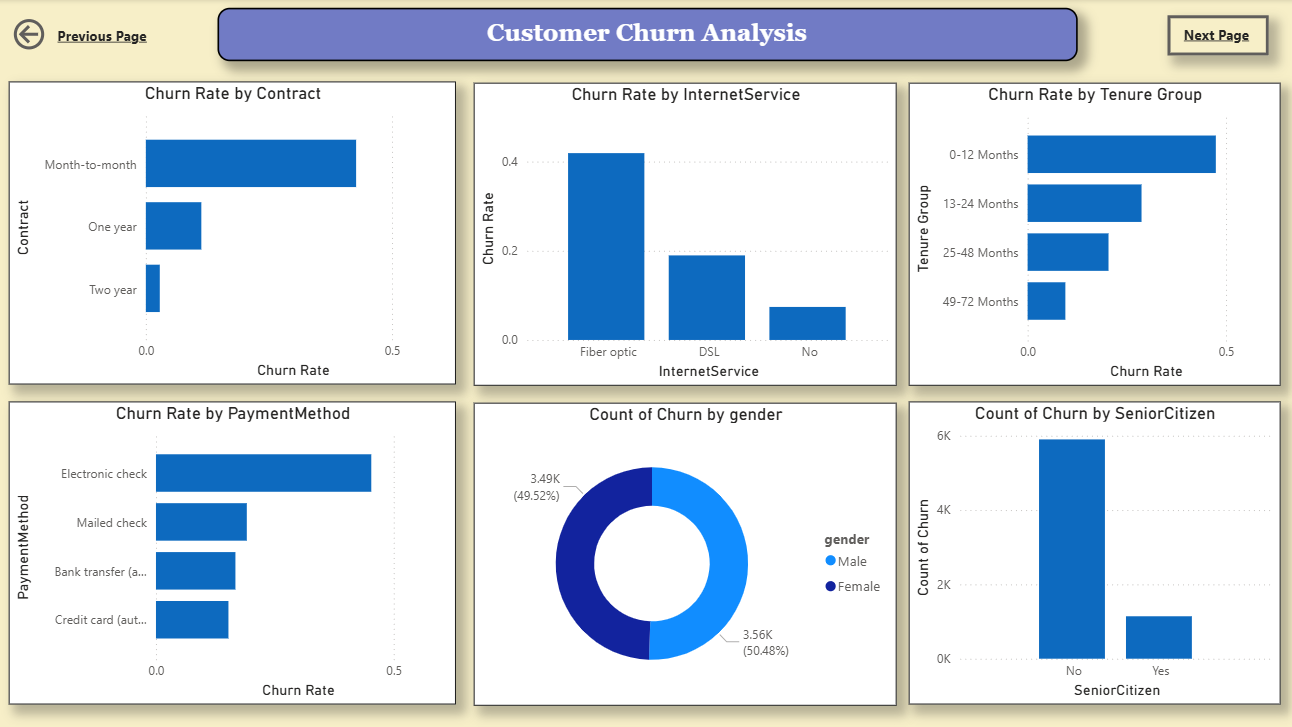

What the dashboard file says about the page in this screenshot:
{"tool":"powerbi","page":{"name":"Customer Churn Analysis","canvas":[1280,720],"ordinal":1},"visuals":[{"type":"textbox","box":[214.7,8.4,849.3,53.1],"z":0},{"type":"clusteredBarChart","fields":{"Y":["Telco_Churn.Churn Rate"],"Category":["Telco_Churn.Contract"]},"box":[8.4,82,441.6,299.2],"z":1000},{"type":"barChart","fields":{"Y":["Telco_Churn.Churn Rate"],"Category":["Telco_Churn.PaymentMethod"]},"box":[8.4,398.1,441.6,299.2],"z":2000},{"type":"clusteredColumnChart","fields":{"Y":["Telco_Churn.Churn Rate"],"Category":["Telco_Churn.InternetService"]},"box":[468.5,82.3,417.7,299.2],"z":3000},{"type":"donutChart","fields":{"Y":["CountNonNull(Telco_Churn.Churn)"],"Category":["Telco_Churn.gender"]},"box":[468.5,398.5,417.7,299.2],"z":4000},{"type":"clusteredBarChart","fields":{"Y":["Telco_Churn.Churn Rate"],"Category":["Telco_Churn.Tenure Group"]},"box":[897.7,83.1,366.9,299.2],"z":5000},{"type":"clusteredColumnChart","fields":{"Category":["Telco_Churn.SeniorCitizen"],"Y":["CountNonNull(Telco_Churn.Churn)"]},"box":[897.7,397.7,366.9,299.2],"z":6000},{"type":"actionButton","box":[1153.4,15.7,100.1,39.8],"z":6001},{"type":"textbox","box":[1164.2,21.6,79.5,28.4],"z":6002},{"type":"actionButton","box":[8.3,15,170,40],"z":6003},{"type":"textbox","box":[51.7,21.7,100.8,28.3],"z":6004}]}

Visuals, with their boxes in screenshot pixels (x1, y1, x2, y2), scaled from the page's 1280x720 canvas onto the 1292x727 screenshot:
textbox: (left=217, top=8, right=1074, bottom=62)
clusteredBarChart - Telco_Churn.Churn Rate x Telco_Churn.Contract: (left=8, top=83, right=454, bottom=385)
barChart - Telco_Churn.Churn Rate x Telco_Churn.PaymentMethod: (left=8, top=402, right=454, bottom=704)
clusteredColumnChart - Telco_Churn.Churn Rate x Telco_Churn.InternetService: (left=473, top=83, right=895, bottom=385)
donutChart - CountNonNull(Telco_Churn.Churn) x Telco_Churn.gender: (left=473, top=402, right=895, bottom=704)
clusteredBarChart - Telco_Churn.Churn Rate x Telco_Churn.Tenure Group: (left=906, top=84, right=1276, bottom=386)
clusteredColumnChart - Telco_Churn.SeniorCitizen x CountNonNull(Telco_Churn.Churn): (left=906, top=402, right=1276, bottom=704)
actionButton: (left=1164, top=16, right=1265, bottom=56)
textbox: (left=1175, top=22, right=1255, bottom=50)
actionButton: (left=8, top=15, right=180, bottom=56)
textbox: (left=52, top=22, right=154, bottom=50)
